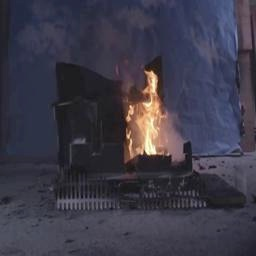fire: (123, 62, 172, 159)
